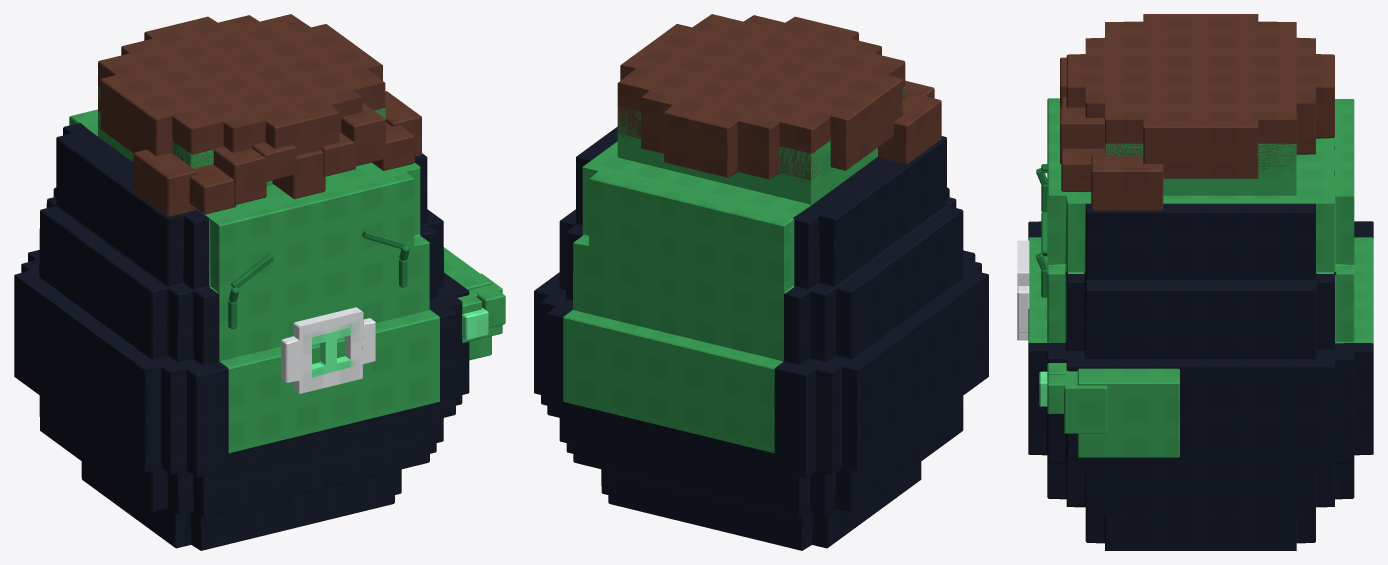
File: GreenLantern_Egg.fbx
The picture shows the model from 3 angles, left to right: view 1: azimuth 30°, elevation 25°; view 2: azimuth 150°, elevation 25°; view 3: azimuth 270°, elevation 25°; orthographic projection. The views are drawn at different scales.
Visible parts, largest first — view 1: GreenLantern_Egg; view 2: GreenLantern_Egg; view 3: GreenLantern_Egg.
Part boxes in pixels (x1,y1,x2,y2): GreenLantern_Egg: (14, 14, 505, 550); GreenLantern_Egg: (534, 14, 988, 550); GreenLantern_Egg: (1017, 14, 1373, 550).
Size of the model in its own units: 288 by 320 by 243.
6 materials, 6 textured.
